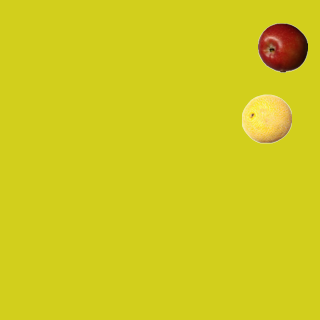Apple Braeburn: (257, 22, 307, 72)
Cantaloupe 1: (241, 93, 291, 143)
